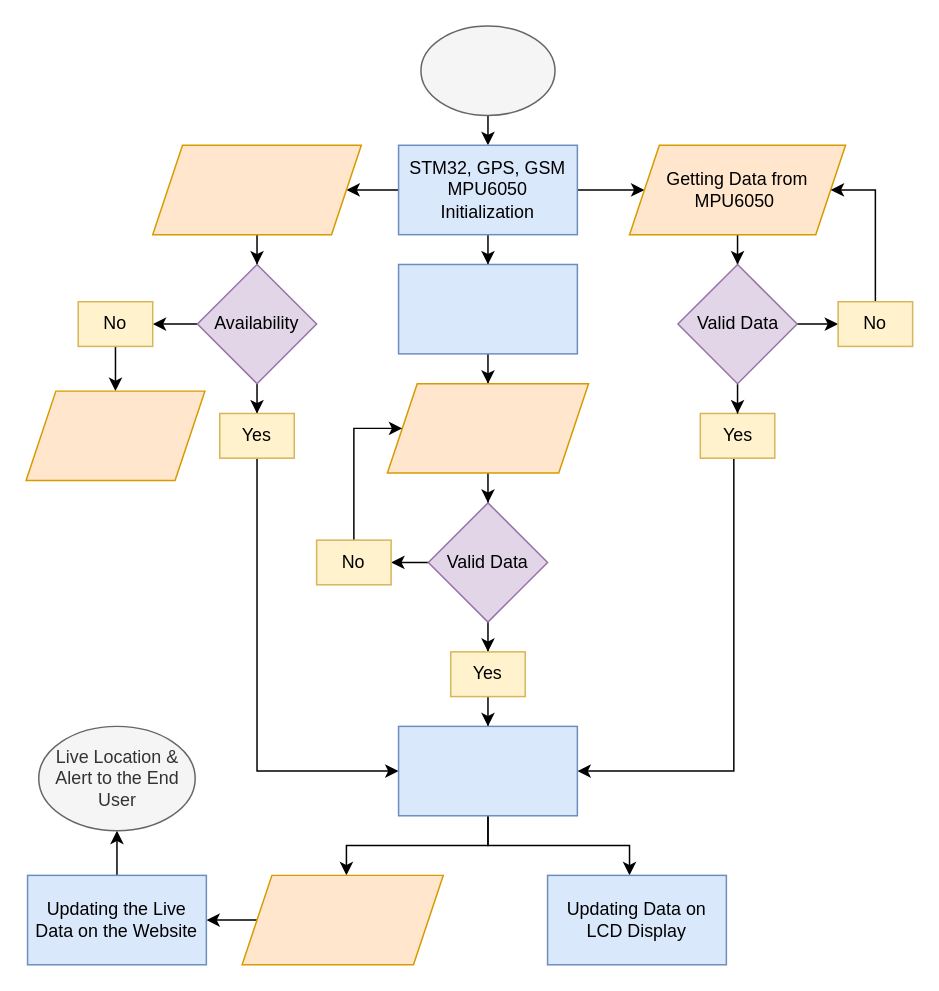
The diagram is 939 pixels wide and 991 high, and some of its shapes have lost their labels. Each missing label, with the centre of its shape:
Getting Internet Access: the point at 256,189
Getting Lattitude, Longitude & Speed: the point at 487,427
GPS Fixing with Satellites: the point at 487,308
No Internet Access on LCD: the point at 115,435
Sending Data to the Web server: the point at 342,919
START: the point at 487,70
STM32F429: the point at 487,770
